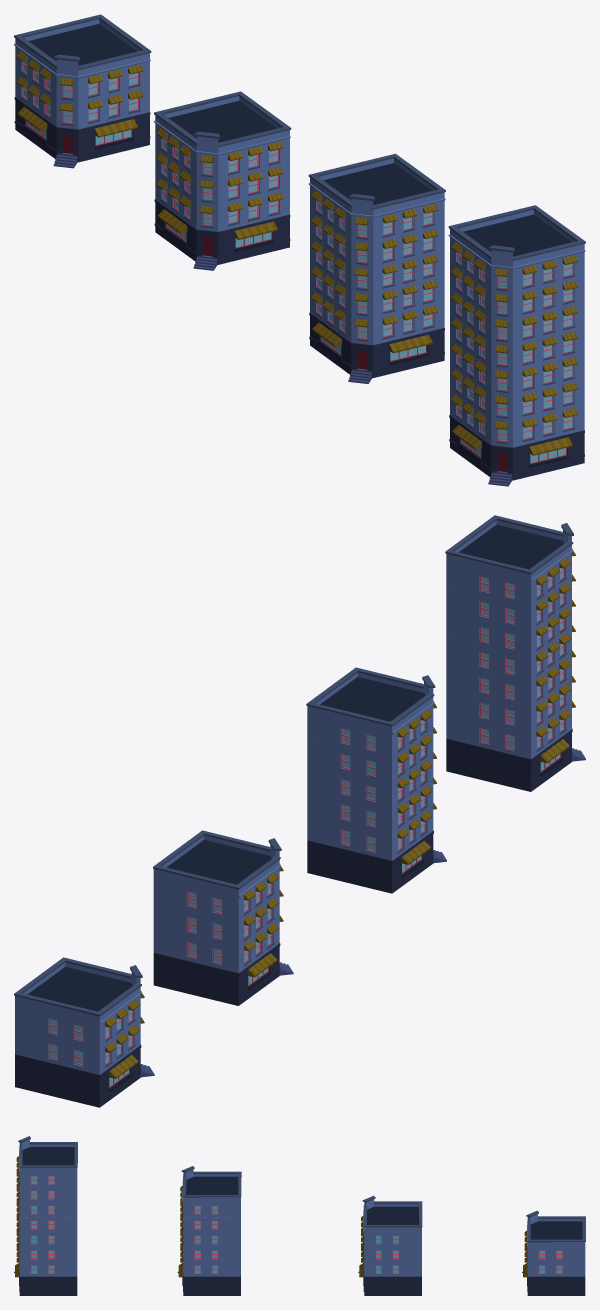
Rendered from CornerB-v2.fbx.
3 renders of one model, top to bottom at view 1: azimuth 30°, elevation 25°; view 2: azimuth 150°, elevation 25°; view 3: azimuth 270°, elevation 25°, orthographic. The views are drawn at different scales.
Visible parts, largest first — view 1: cornerB-High-v2, cornerB-Mid-v2, cornerB-Low-v2, cornerB-VeryLow-v2; view 2: cornerB-High-v2, cornerB-Mid-v2, cornerB-Low-v2, cornerB-VeryLow-v2; view 3: cornerB-High-v2, cornerB-Mid-v2, cornerB-Low-v2, cornerB-VeryLow-v2.
Part boxes in pixels (box(x1,y1,x2,y2)): cornerB-High-v2: box(448, 205, 585, 486); cornerB-Mid-v2: box(308, 153, 445, 383); cornerB-Low-v2: box(154, 91, 291, 270); cornerB-VeryLow-v2: box(14, 14, 151, 168); cornerB-High-v2: box(445, 515, 585, 791); cornerB-Mid-v2: box(306, 667, 446, 893); cornerB-Low-v2: box(153, 830, 293, 1005); cornerB-VeryLow-v2: box(14, 957, 154, 1107); cornerB-High-v2: box(14, 1136, 77, 1295); cornerB-Mid-v2: box(177, 1166, 241, 1295); cornerB-Low-v2: box(358, 1195, 422, 1295); cornerB-VeryLow-v2: box(522, 1210, 585, 1295).
Bounding box in the file's own units: 15.53 × 36.13 × 139.
